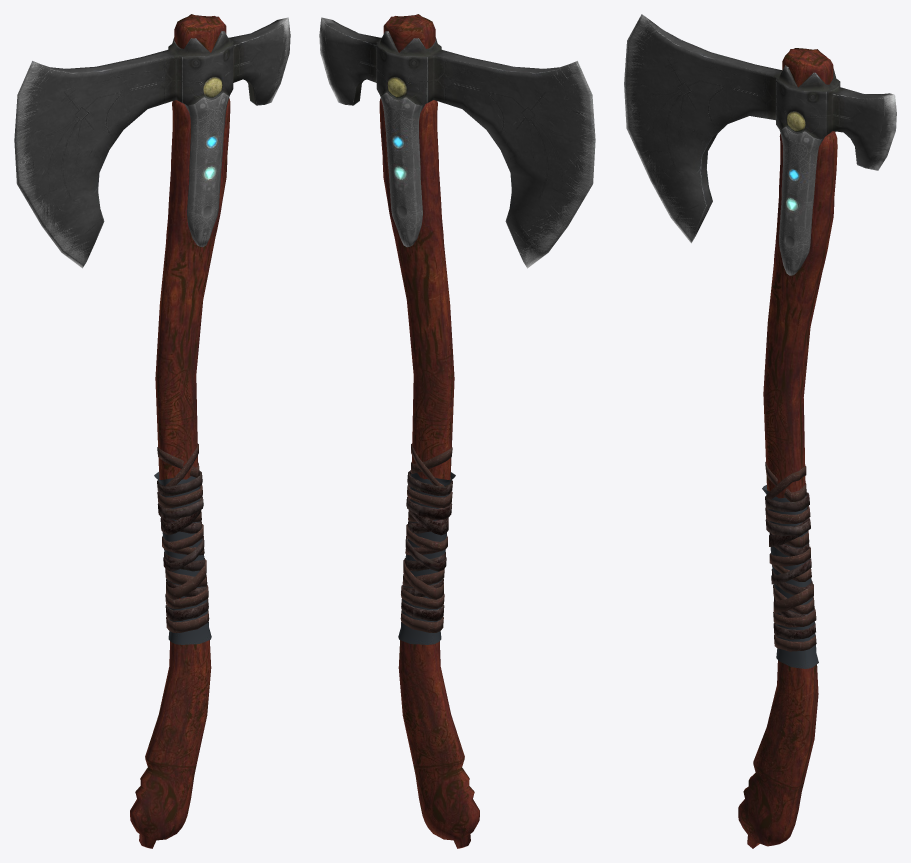
Rendered from Axe.fbx.
The picture shows the model from 3 angles, left to right: view 1: azimuth 30°, elevation 25°; view 2: azimuth 150°, elevation 25°; view 3: azimuth 330°, elevation 25°; orthographic projection.
Visible parts, largest first — view 1: Axe; view 2: Axe; view 3: Axe.
Boxes of the visible parts, x1,y1,x2,y2 form: Axe: [14, 14, 290, 848]; Axe: [319, 14, 595, 848]; Axe: [624, 14, 896, 848].
Bounding box in the file's own units: 426 × 1208 × 70.23.
